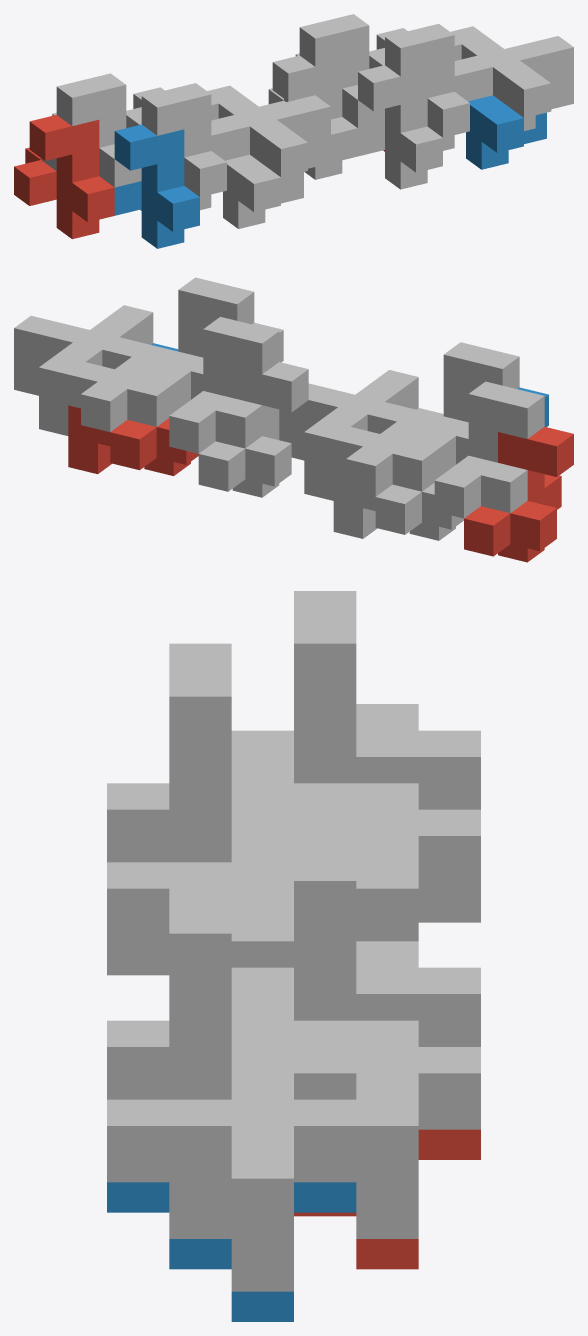
Rendered from tiling.obj.
3 renders of one model, top to bottom at view 1: azimuth 30°, elevation 25°; view 2: azimuth 150°, elevation 25°; view 3: azimuth 270°, elevation 25°, orthographic. The views are drawn at different scales.
Parts seen in each view (by area): view 1: copy_1_domain_1, copy_2_domain_4, copy_2_domain_8, copy_1_domain_2, copy_1_domain_6, copy_1_domain_4, copy_1_domain_8, copy_1_domain_3, copy_1_domain_5, copy_1_domain_7, copy_2_domain_6, copy_2_domain_2 (+2 smaller); view 2: copy_2_domain_3, copy_2_domain_7, copy_1_domain_3, copy_1_domain_7, copy_1_domain_1, copy_1_domain_5, copy_2_domain_8, copy_2_domain_4, copy_1_domain_8, copy_1_domain_4, copy_2_domain_1, copy_2_domain_5; view 3: copy_2_domain_8, copy_2_domain_7, copy_1_domain_4, copy_1_domain_3, copy_1_domain_7, copy_1_domain_8, copy_2_domain_3, copy_2_domain_4, copy_2_domain_6, copy_2_domain_5, copy_2_domain_1, copy_2_domain_2.
Part boxes in pixels (x1,y1,x2,y2): copy_1_domain_1: [14, 115, 114, 239]; copy_2_domain_4: [211, 95, 330, 190]; copy_2_domain_8: [454, 36, 573, 130]; copy_1_domain_2: [114, 124, 199, 248]; copy_1_domain_6: [358, 65, 442, 189]; copy_1_domain_4: [137, 83, 226, 210]; copy_1_domain_8: [380, 23, 469, 150]; copy_1_domain_3: [41, 73, 141, 187]; copy_1_domain_5: [259, 55, 357, 179]; copy_1_domain_7: [284, 14, 384, 127]; copy_2_domain_6: [466, 95, 546, 169]; copy_2_domain_2: [223, 154, 303, 228]; copy_2_domain_3: [304, 409, 442, 500]; copy_2_domain_7: [39, 344, 177, 435]; copy_1_domain_3: [434, 381, 544, 518]; copy_1_domain_7: [169, 317, 279, 453]; copy_1_domain_1: [464, 426, 573, 562]; copy_1_domain_5: [198, 362, 308, 497]; copy_2_domain_8: [14, 305, 153, 395]; copy_2_domain_4: [279, 370, 418, 460]; copy_1_domain_8: [144, 277, 254, 411]; copy_1_domain_4: [410, 342, 519, 476]; copy_2_domain_1: [333, 470, 463, 540]; copy_2_domain_5: [68, 405, 198, 475]; copy_2_domain_8: [107, 1073, 356, 1291]; copy_2_domain_7: [231, 1020, 480, 1238]; copy_1_domain_4: [107, 643, 356, 862]; copy_1_domain_3: [231, 591, 480, 809]; copy_1_domain_7: [231, 828, 480, 1046]; copy_1_domain_8: [107, 881, 356, 1099]; copy_2_domain_3: [231, 783, 480, 941]; copy_2_domain_4: [107, 836, 293, 967]; copy_2_domain_6: [107, 1182, 356, 1321]; copy_2_domain_5: [294, 1129, 480, 1269]; copy_2_domain_1: [418, 892, 480, 922]; copy_2_domain_2: [107, 945, 169, 975].
Size of the model in its own units: 19 by 5 by 6.
